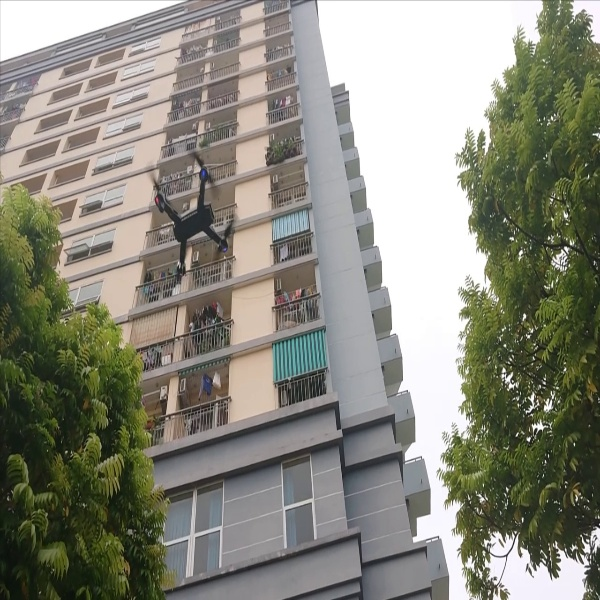drone: (141, 150, 237, 287)
